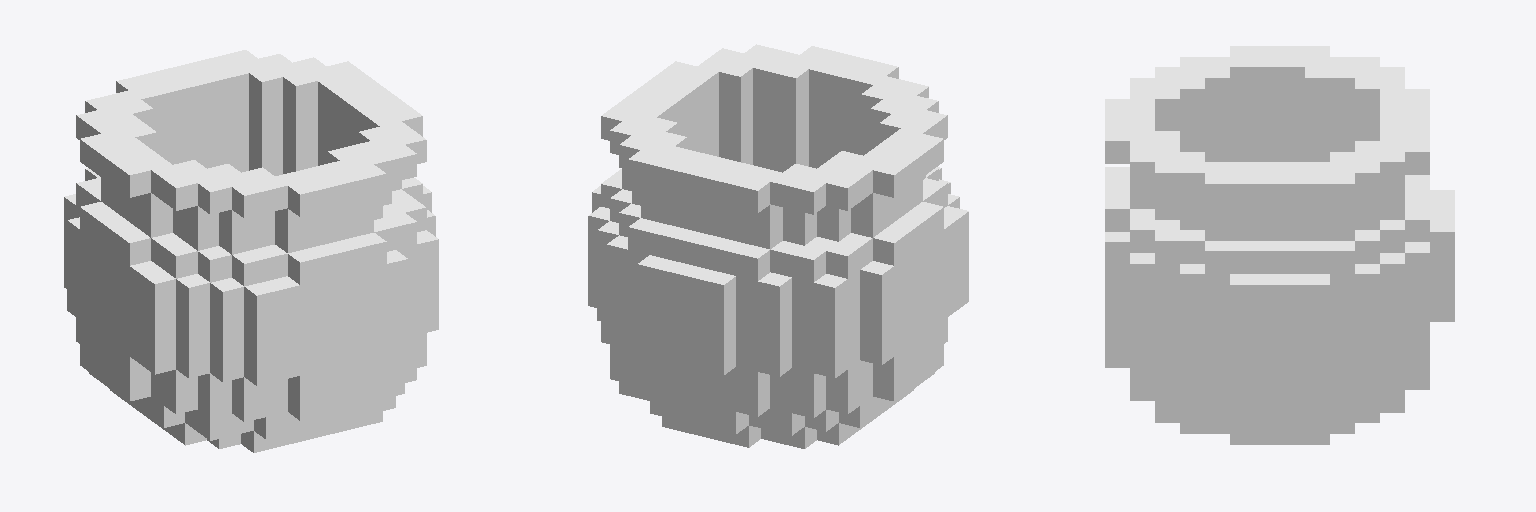
File: pot2.obj
3 views of the same model, side by side, from view 1: azimuth 30°, elevation 25°; view 2: azimuth 150°, elevation 25°; view 3: azimuth 270°, elevation 25° (orthographic).
Parts seen in each view (by area): view 1: object 1; view 2: object 1; view 3: object 1.
Part boxes in pixels (x1,y1,x2,y2): object 1: (64, 50, 438, 452); object 1: (588, 44, 968, 448); object 1: (1105, 46, 1454, 444).
Bounding box in the file's own units: 1.4 × 1.2 × 1.4.